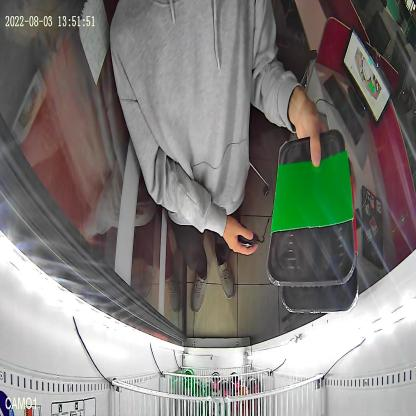green: (266, 129, 356, 288)
red: (281, 157, 359, 313)
